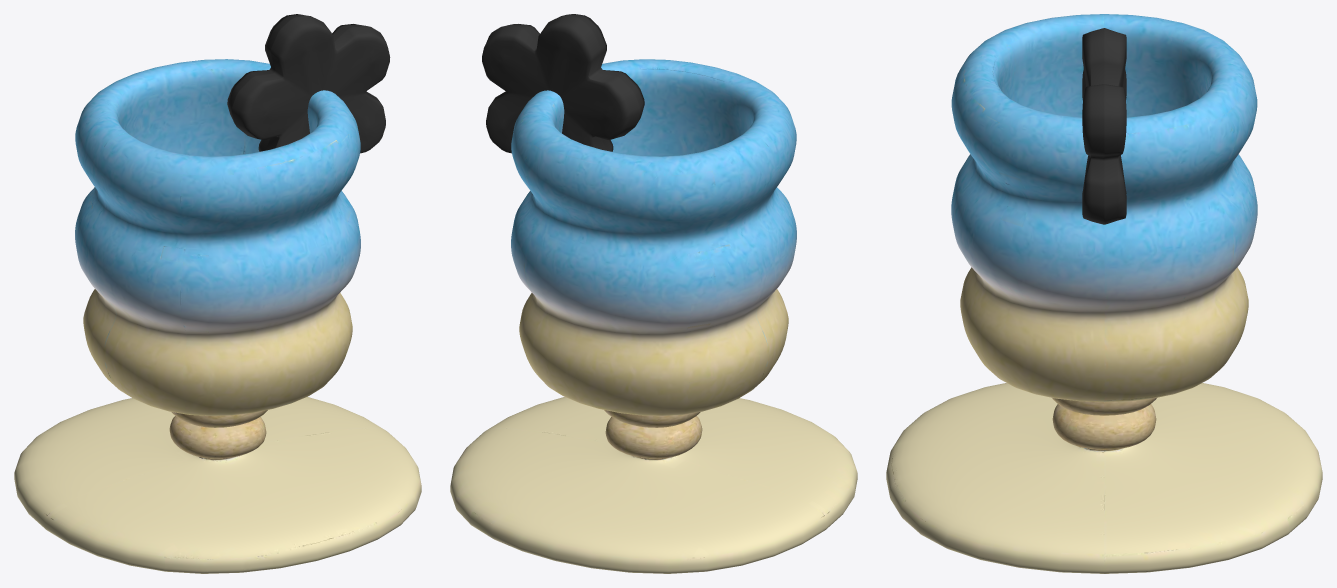
3 renders of one model, left to right at view 1: azimuth 30°, elevation 25°; view 2: azimuth 150°, elevation 25°; view 3: azimuth 270°, elevation 25°, orthographic. The views are drawn at different scales.
Visible parts, largest first — view 1: Cube, Cylinder; view 2: Cube, Cylinder; view 3: Cube, Cylinder.
Part boxes in pixels (x1,y1,x2,y2): Cube: (14, 59, 421, 573); Cylinder: (227, 14, 390, 153); Cube: (450, 59, 857, 573); Cylinder: (482, 14, 644, 153); Cube: (886, 14, 1322, 573); Cylinder: (1082, 28, 1126, 224).
Size of the model in its own units: 2.75 by 3.46 by 2.75.
4 materials, 4 textured.
